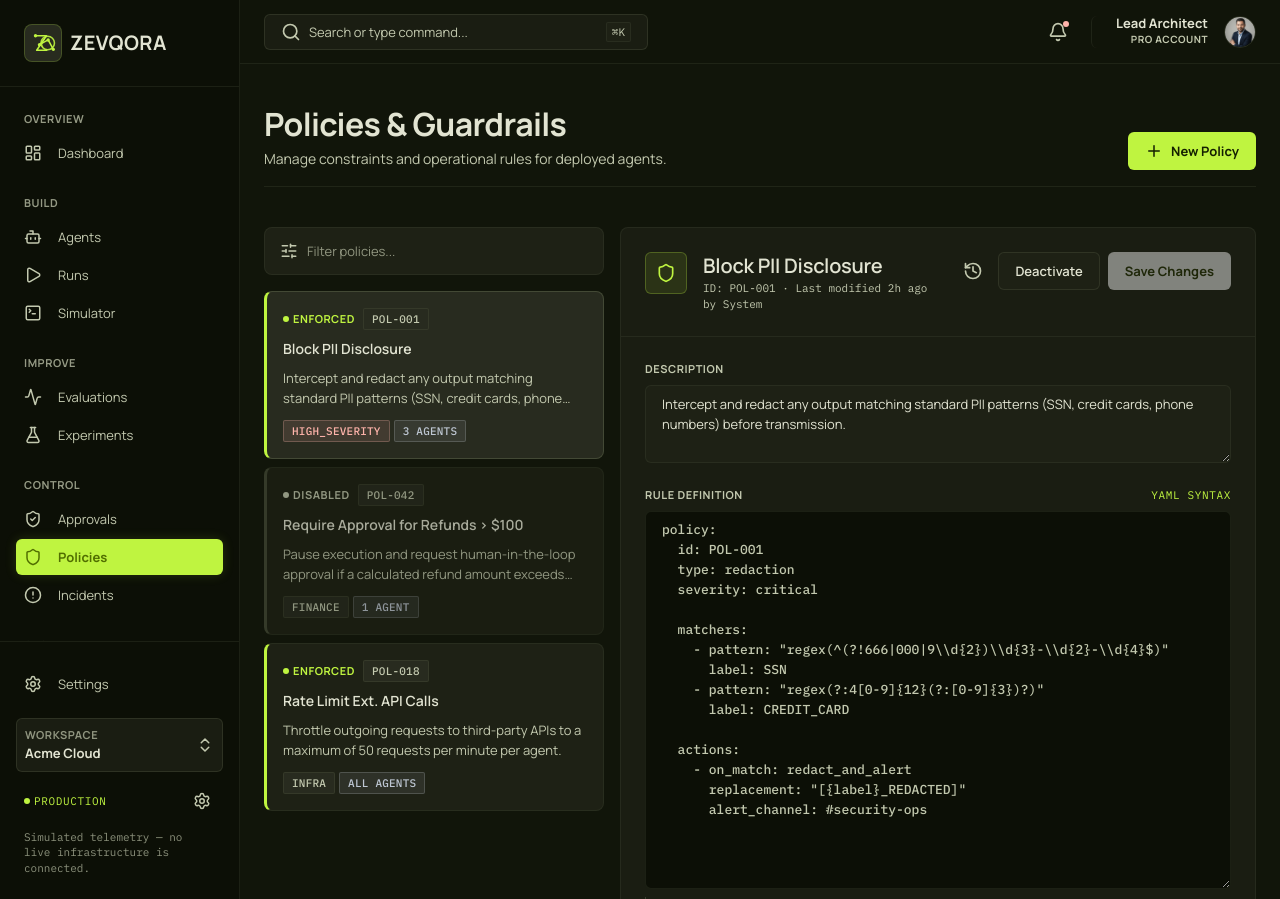
Test: Policies › enables Save only after an edit and confirms via toast
expect the heading "Block PII Disclosure" is shown: met, box [703,252,883,279]
expect the button "Save Changes" is disabled: met, box [1108,252,1231,290]
Type " Updated." into the text box labelled "Description".
click(938, 424); type(" Updated.")  # box [645,385,1231,463]
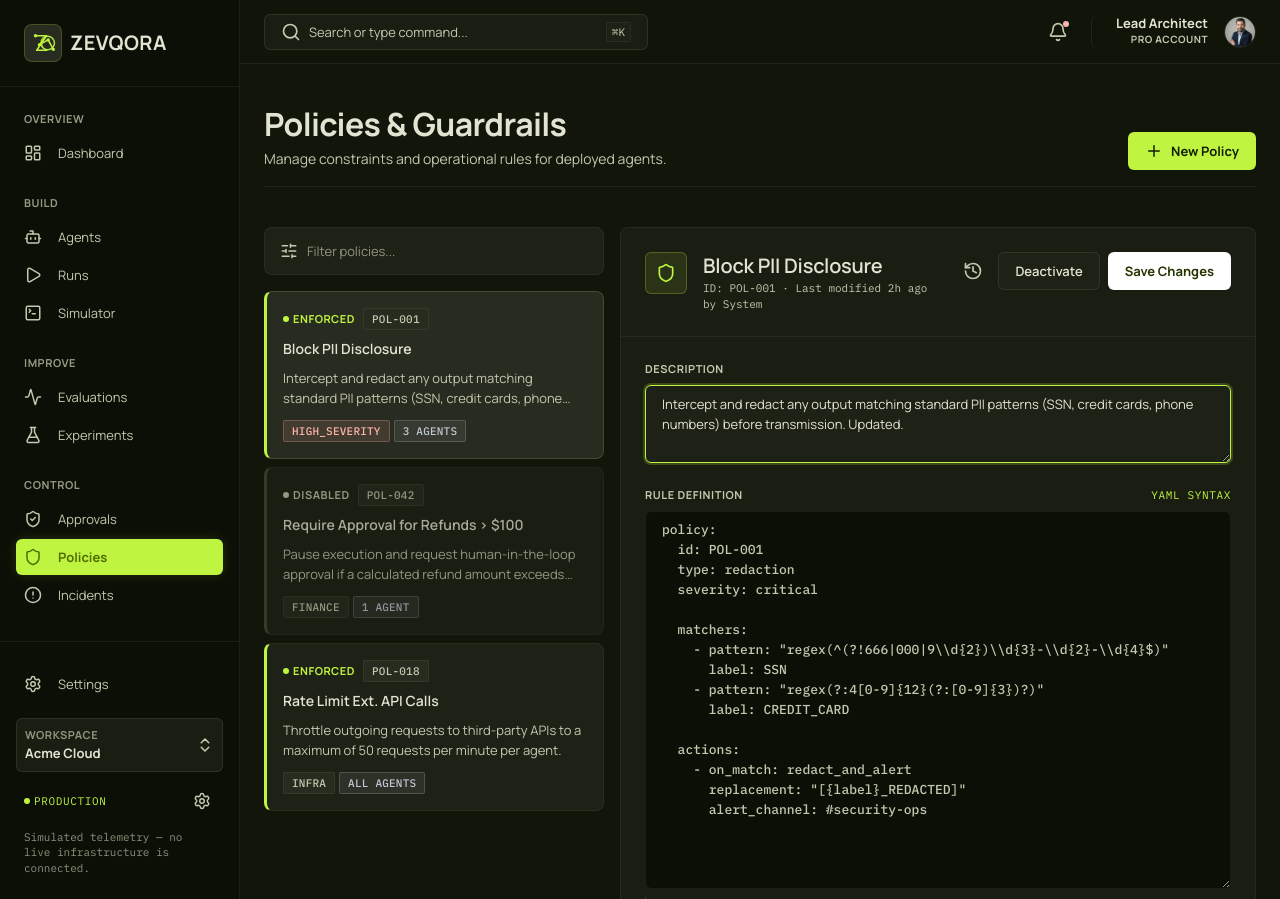
expect the button "Save Changes" is enabled: met
Click the button "Save Changes".
click(1169, 271)  # box [1108,252,1231,290]
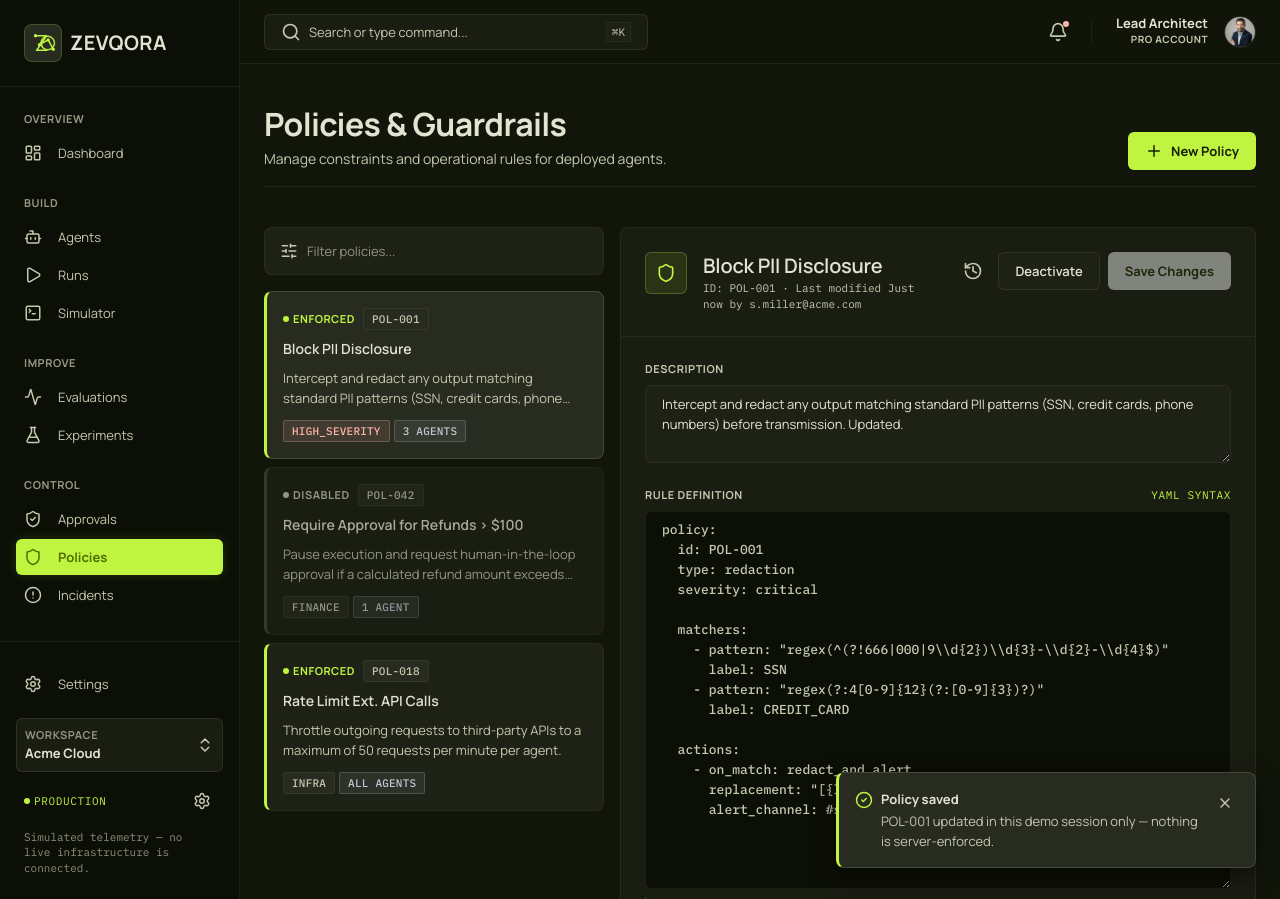
expect the text "Policy saved" is shown: met, box [881,790,959,808]
